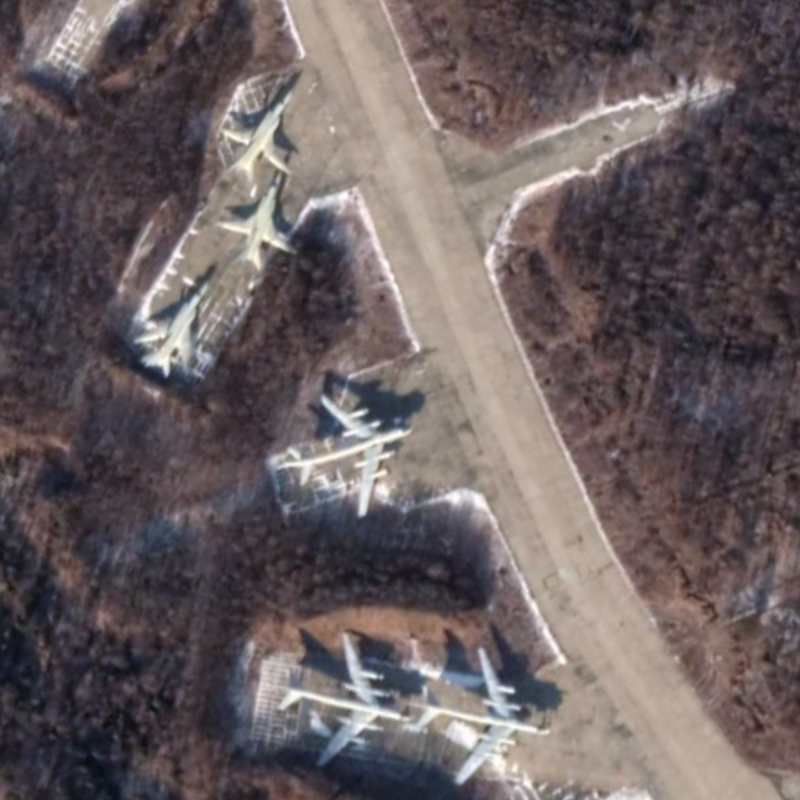A12: (214, 167, 300, 273), (131, 276, 210, 379), (217, 86, 298, 183)
A17: (408, 642, 553, 790), (269, 627, 415, 771), (275, 390, 417, 520)
